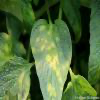Tomato mold leaf: (30, 15, 71, 99)
